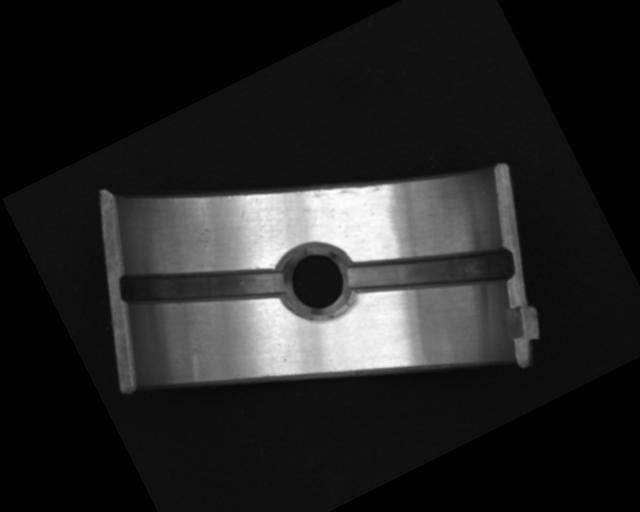gap: (112, 211, 291, 358), (343, 199, 517, 341)
hole: (269, 233, 364, 330)
